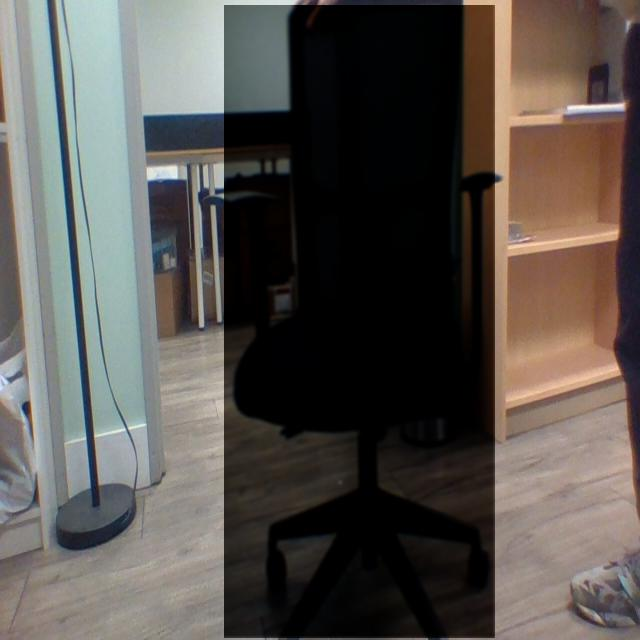black-chair: (224, 5, 496, 639)
